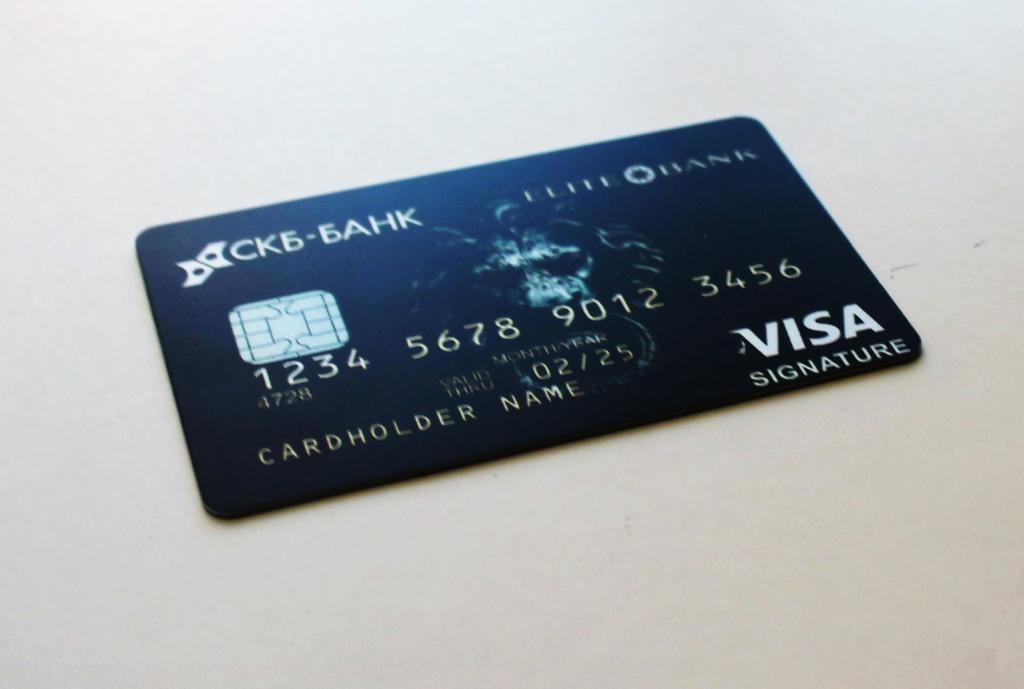card: (135, 116, 924, 521)
